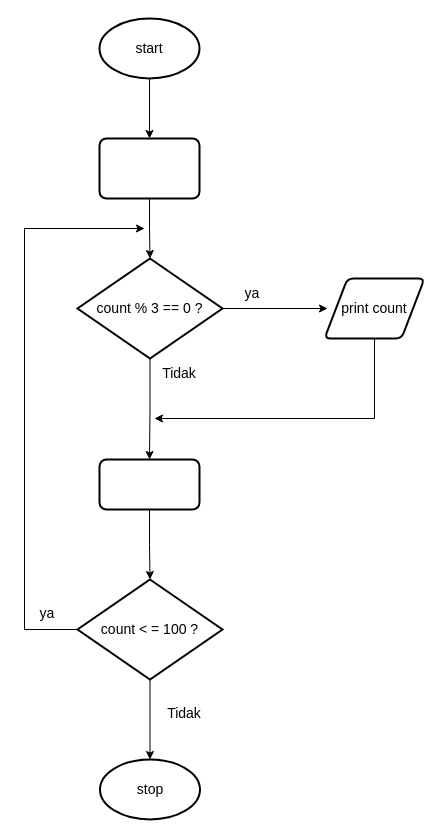
The diagram is 443 pixels wide and 837 high, and some of its shapes have lost their labels. Each missing label, with the centre of its shape:
count += 1: point (149, 484)
count = 1: point (149, 168)
